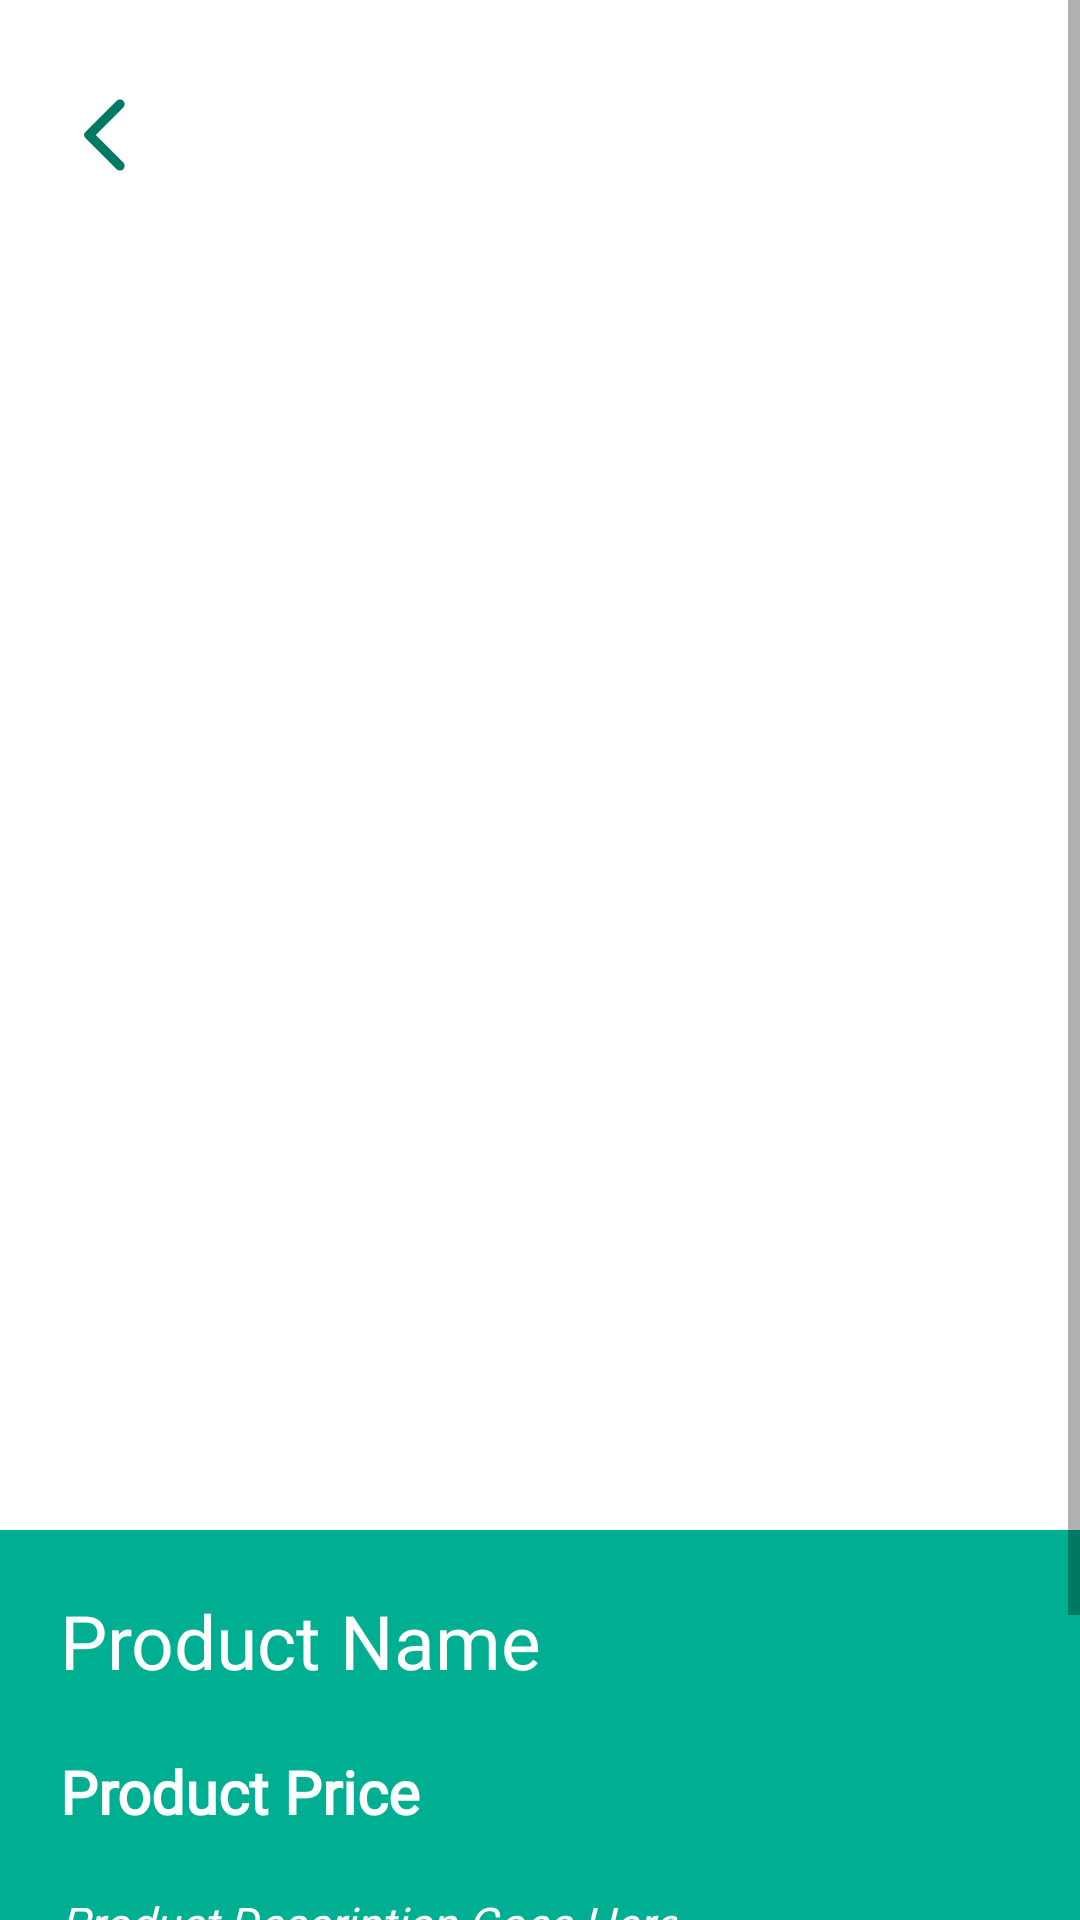

Icons on this 1080w x 1920h Android screen, each with its box as (x1, y1, x2, y2):
back activity: (84, 99, 125, 171)
